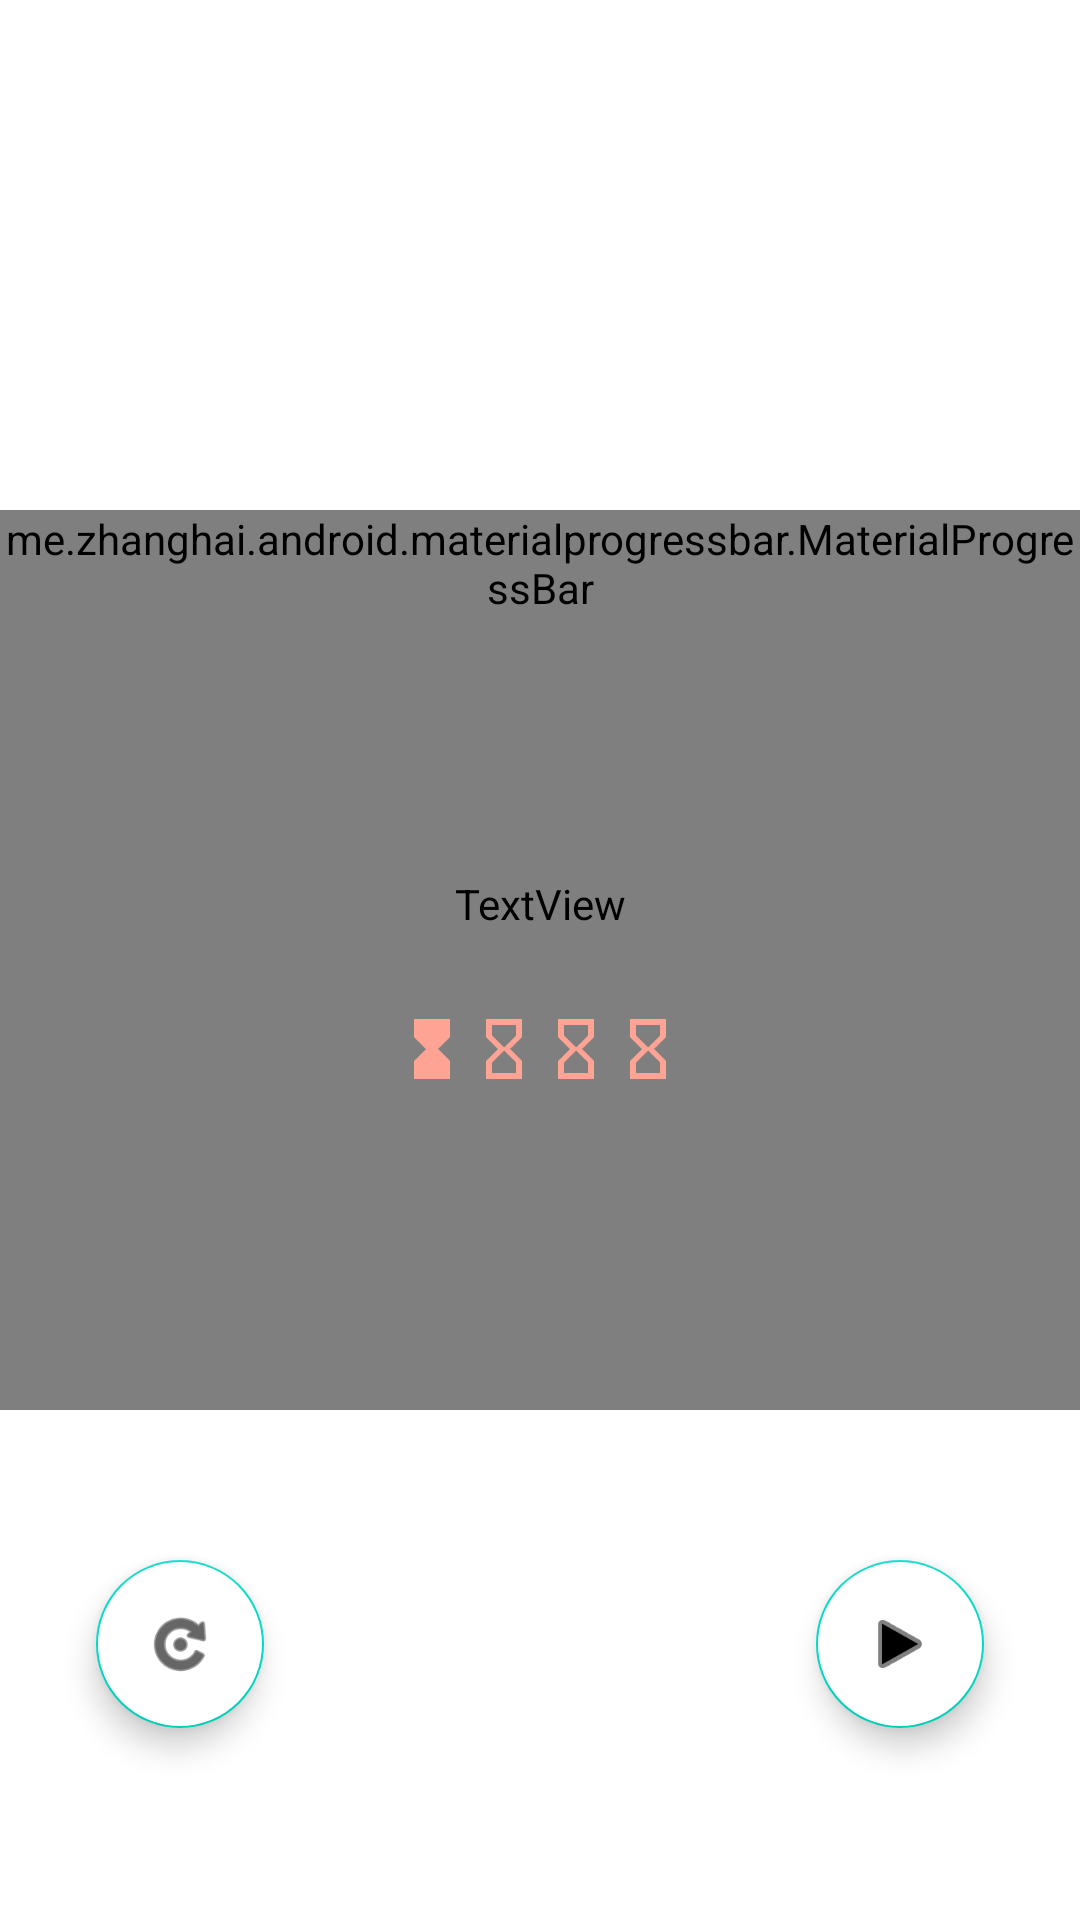

Screen size 1080*1920. Icon name, then its box in pixels as (x1,y1,x2,y2):
first hourglass: (414,1019,450,1079)
fourth hourglass: (630,1019,666,1079)
Pause now, Continue: (816,1560,984,1728)
Pause on Break, Restart: (96,1560,264,1728)
second hourglass: (486,1019,522,1079)
third hourglass: (558,1019,594,1079)
